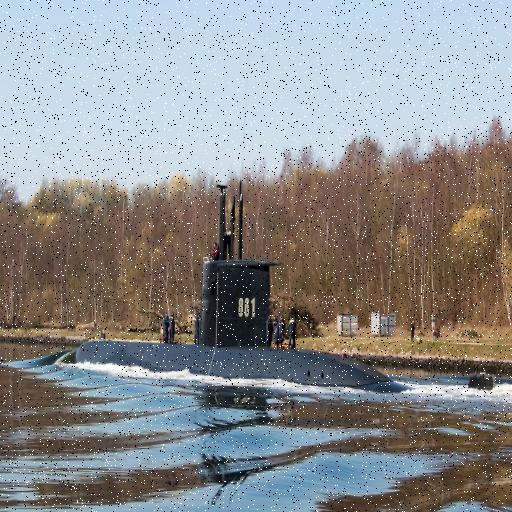submarine: (77, 179, 412, 393)
